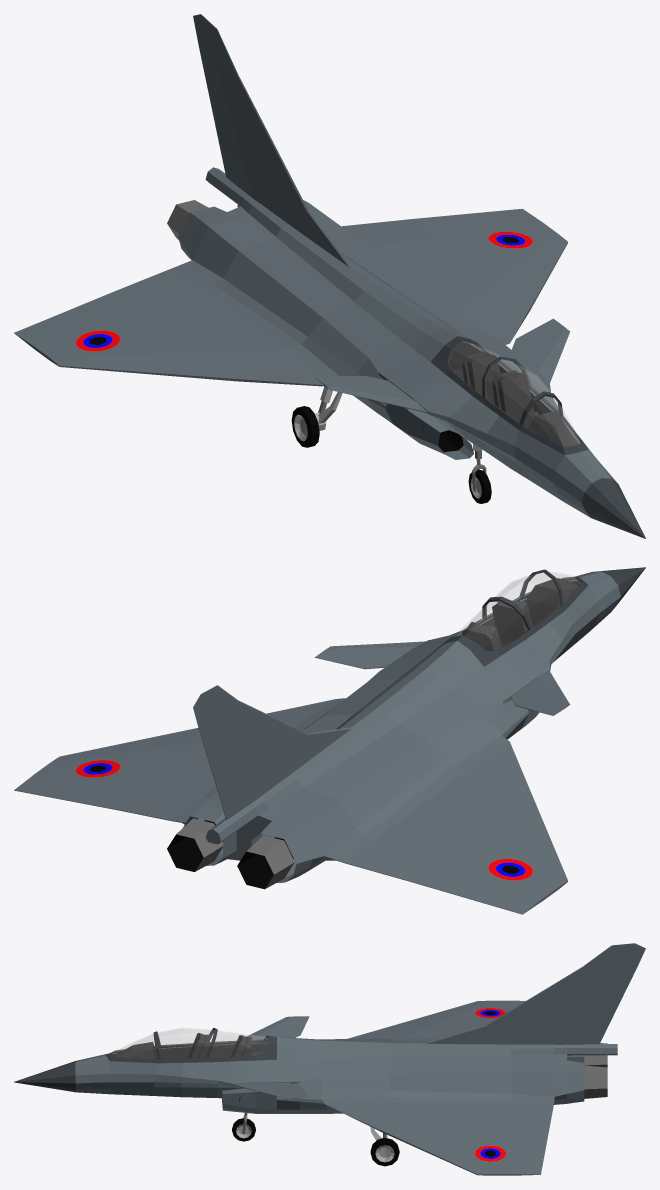
The picture shows the model from 3 angles, top to bottom: view 1: azimuth 30°, elevation 25°; view 2: azimuth 150°, elevation 25°; view 3: azimuth 270°, elevation 25°; orthographic projection. The views are drawn at different scales.
Visible parts, largest first — view 1: Circle.026, Circle.031, Circle.029, Circle.030, Circle.037, Circle.034, Circle.027, Circle.028, Landing gear_RL.005, Circle.038, Landing gear_F.002; view 2: Circle.026, Circle.031, Circle.029, Circle.030, Circle.037, Circle.028, Circle.034, Circle.038, Circle.027; view 3: Circle.026, Circle.031, Circle.030, Circle.037, Circle.038, Circle.027, Circle.034, Landing gear_RL.004, Landing gear_F.002.
Boxes of the visible parts, left/top/right/bottom form: Circle.026: left=34, top=14, right=645, bottom=538; Circle.031: left=431, top=336, right=561, bottom=429; Circle.029: left=14, top=291, right=141, bottom=348; Circle.030: left=199, top=46, right=252, bottom=197; Circle.037: left=410, top=208, right=542, bottom=236; Circle.034: left=511, top=318, right=570, bottom=382; Circle.027: left=315, top=375, right=427, bottom=413; Circle.028: left=116, top=268, right=201, bottom=308; Landing gear_RL.005: left=291, top=386, right=342, bottom=447; Circle.038: left=346, top=219, right=435, bottom=245; Landing gear_F.002: left=468, top=444, right=491, bottom=503; Circle.026: left=35, top=567, right=645, bottom=900; Circle.031: left=433, top=569, right=564, bottom=666; Circle.029: left=409, top=860, right=542, bottom=914; Circle.030: left=198, top=717, right=255, bottom=819; Circle.037: left=14, top=774, right=141, bottom=809; Circle.028: left=346, top=839, right=435, bottom=881; Circle.034: left=314, top=641, right=425, bottom=669; Circle.038: left=115, top=788, right=201, bottom=820; Circle.027: left=511, top=671, right=569, bottom=715; Circle.026: left=14, top=943, right=645, bottom=1175; Circle.031: left=155, top=1028, right=276, bottom=1063; Circle.030: left=560, top=966, right=637, bottom=1044; Circle.037: left=511, top=1129, right=548, bottom=1175; Circle.038: left=511, top=1104, right=553, bottom=1130; Circle.027: left=247, top=1016, right=309, bottom=1039; Circle.034: left=233, top=1082, right=309, bottom=1098; Landing gear_RL.004: left=370, top=1127, right=399, bottom=1166; Landing gear_F.002: left=232, top=1113, right=255, bottom=1141.
Bounding box in the file's own units: 994 × 529 × 1533.
